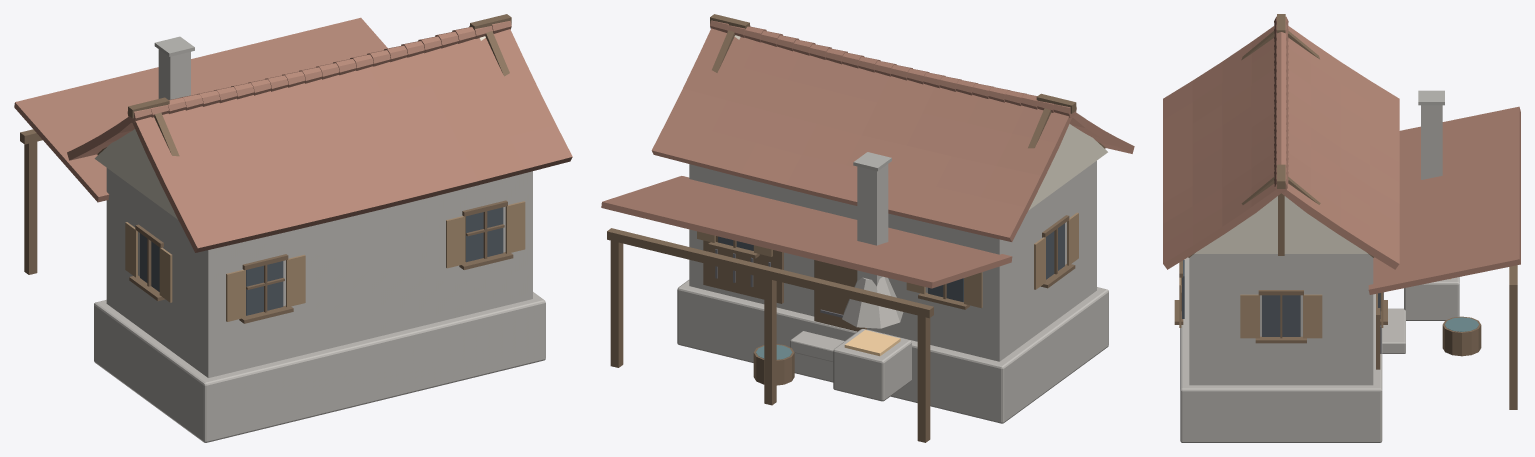
The model's file is smithy.glb.
3 renders of one model, left to right at view 1: azimuth 30°, elevation 25°; view 2: azimuth 150°, elevation 25°; view 3: azimuth 270°, elevation 25°, orthographic. The views are drawn at different scales.
Visible parts, largest first — view 1: smithy; view 2: smithy; view 3: smithy.
Part boxes in pixels (x1=…): smithy: x1=14, y1=14, x2=572, y2=442; smithy: x1=601, y1=14, x2=1134, y2=442; smithy: x1=1163, y1=14, x2=1520, y2=442.
Size of the model in its own units: 9.2 by 6.95 by 8.32.
